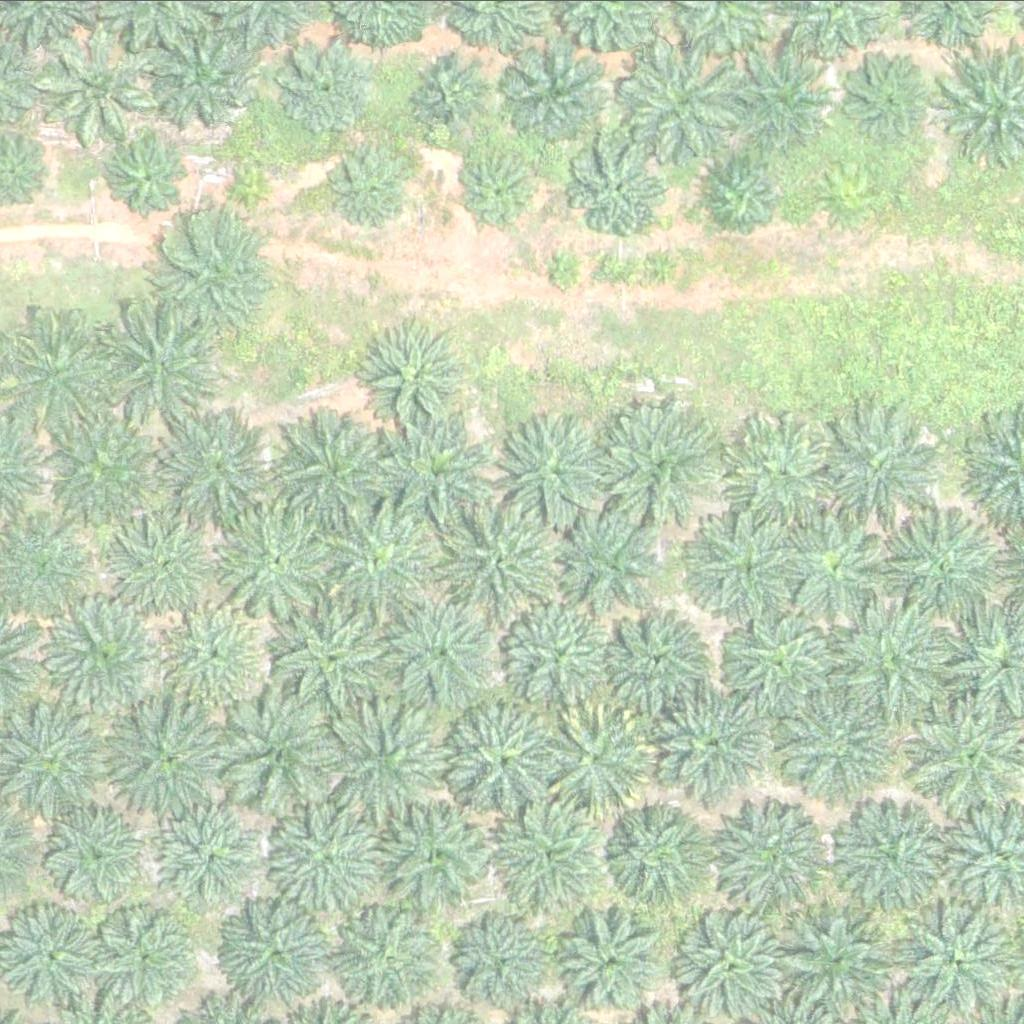Kelapa_Sawit: (47, 398, 173, 523), (3, 308, 129, 433), (96, 306, 222, 431), (274, 409, 400, 534), (495, 403, 621, 528), (591, 404, 717, 529), (443, 502, 569, 627), (315, 495, 441, 620), (218, 503, 344, 628), (275, 598, 401, 723), (447, 700, 573, 825), (326, 706, 452, 831), (222, 682, 348, 807), (105, 693, 231, 818), (374, 791, 500, 916), (617, 42, 743, 167), (683, 503, 809, 628), (719, 596, 845, 721), (721, 409, 847, 534), (711, 791, 837, 916), (829, 788, 955, 913), (779, 688, 905, 813), (651, 683, 777, 808), (842, 599, 968, 724), (883, 507, 1009, 632), (821, 405, 947, 530), (150, 206, 275, 331), (544, 693, 669, 818), (486, 791, 611, 916), (891, 892, 1016, 1017), (779, 892, 904, 1017), (53, 593, 167, 706), (157, 597, 271, 710), (40, 31, 153, 144), (363, 318, 476, 431), (561, 508, 674, 621), (387, 594, 500, 707), (501, 596, 614, 709), (377, 413, 491, 525), (149, 15, 262, 127), (162, 413, 275, 525), (105, 506, 218, 618), (154, 795, 267, 907), (276, 800, 389, 912), (222, 898, 335, 1010), (727, 41, 840, 153), (4, 906, 105, 1006), (54, 802, 155, 902), (278, 34, 379, 134), (509, 42, 610, 142), (602, 614, 703, 714), (602, 804, 703, 904), (562, 909, 663, 1009), (455, 917, 556, 1017), (338, 907, 439, 1007), (97, 909, 198, 1009), (685, 914, 786, 1014), (572, 138, 672, 238), (791, 516, 891, 616), (330, 141, 418, 229), (458, 143, 546, 231), (106, 131, 194, 219), (841, 54, 929, 141), (706, 157, 782, 232), (413, 55, 488, 130), (229, 158, 267, 196), (549, 251, 587, 288)
